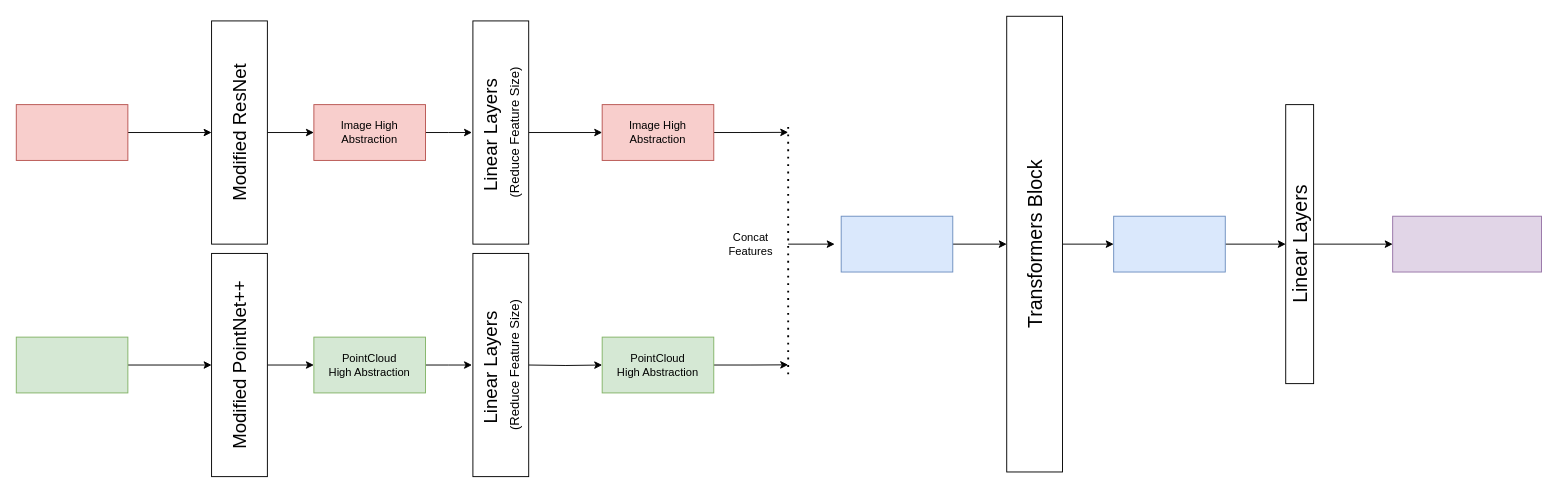
This 1558x493 diagram has some shape labels left out. Here are the shapes that lost their labels. From the top down, the box of each, then its label:
(15, 104, 128, 160): Image Data
(840, 215, 953, 272): Concatenated Features
(1113, 215, 1225, 272): Transformer Weighted Features
(1392, 215, 1541, 272): Action Space (Throttle, Break, Steering)
(15, 336, 128, 393): LiDAR PointCloud
